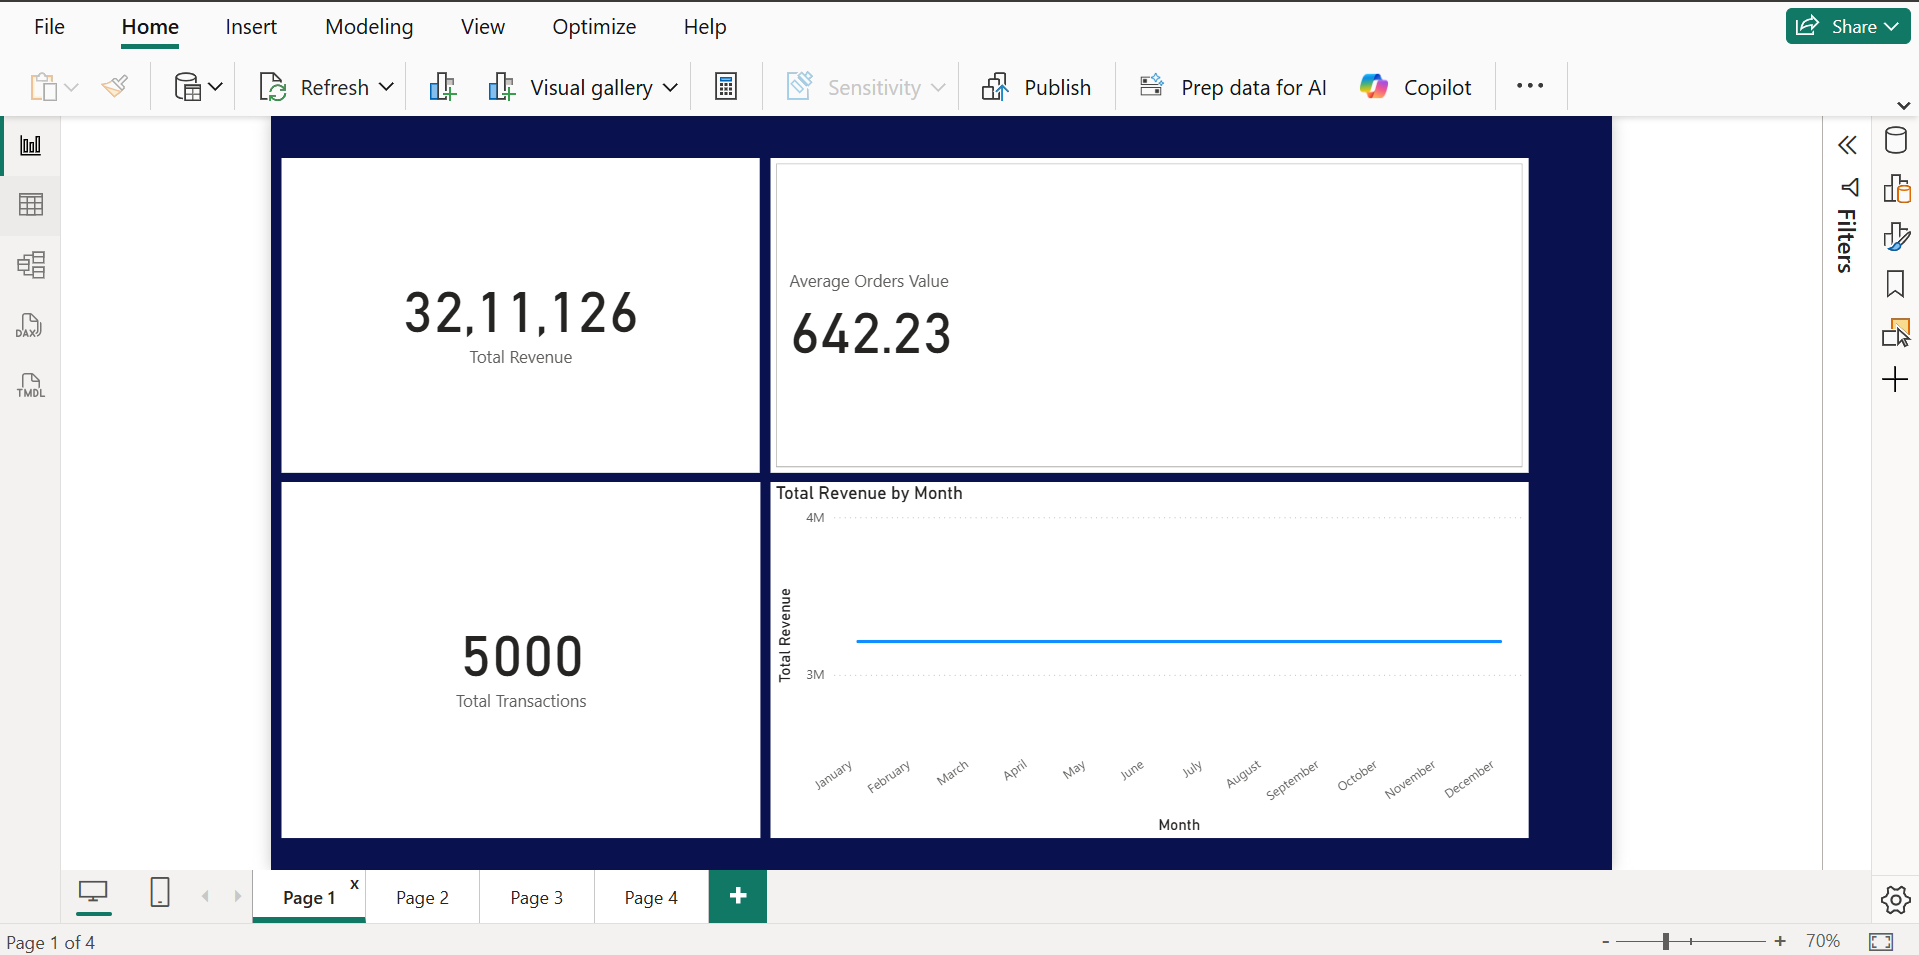

Layout of this report page (visuals, bound fields, positions):
{"tool":"powerbi","page":{"name":"Page 1","canvas":[1280,720],"ordinal":0},"visuals":[{"type":"card","fields":{"Values":["Measures (2).Total Revenue"]},"box":[9.5,39.8,456.5,300.6],"z":0},{"type":"card","fields":{"Values":["Measures (2).Total Transactions"]},"box":[10,350,457,340],"z":1000},{"type":"cardVisual","fields":{"Data":["Measures (2).Average Orders Value"]},"box":[477.2,39.8,723.7,300.6],"z":2000},{"type":"lineChart","fields":{"Y":["Measures (2).Total Revenue"],"Category":["warehouse dim_date.order_date.Variation.Date Hierarchy.Month"]},"box":[477,350,724,340],"z":3000}]}

Visuals, with their boxes on the page's 1280x720 design canvas (x1, y1, x2, y2). These are canvas units, not pixel positions in the 1919x955 screenshot, which may show the page scaled, cropped or inside an application window:
card - Measures (2).Total Revenue: Rect(10, 40, 466, 340)
card - Measures (2).Total Transactions: Rect(10, 350, 467, 690)
cardVisual - Measures (2).Average Orders Value: Rect(477, 40, 1201, 340)
lineChart - Measures (2).Total Revenue x warehouse dim_date.order_date.Variation.Date Hierarchy.Month: Rect(477, 350, 1201, 690)
